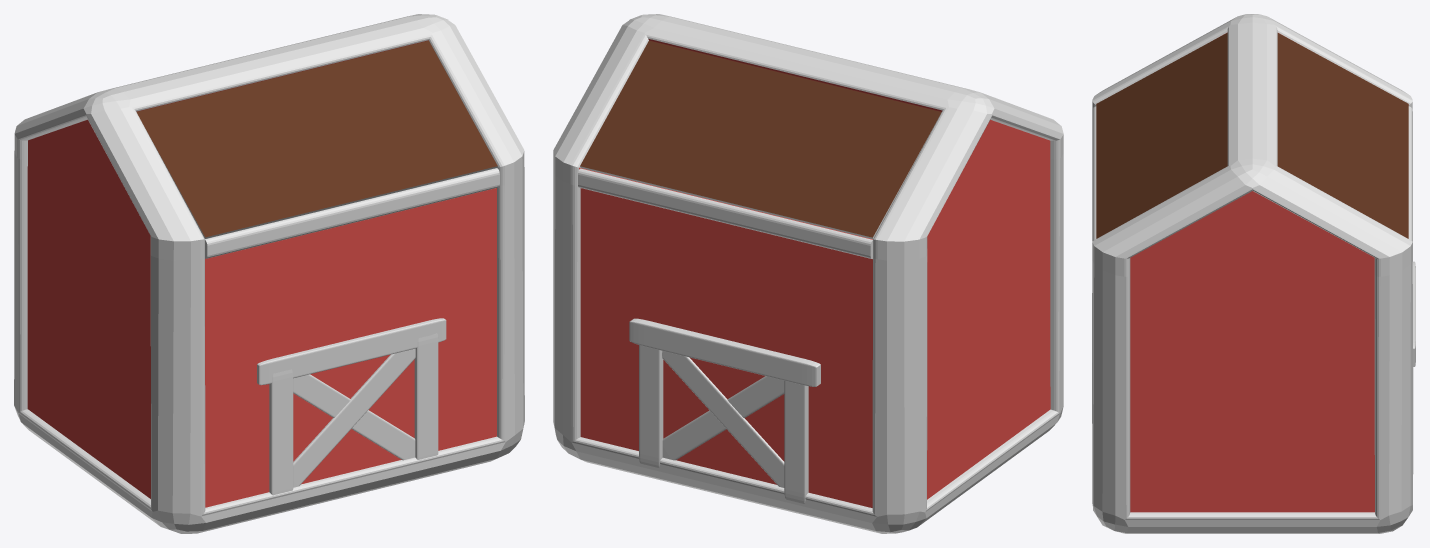
Rendered from Farm.fbx.
3 renders of one model, left to right at view 1: azimuth 30°, elevation 25°; view 2: azimuth 150°, elevation 25°; view 3: azimuth 270°, elevation 25°, orthographic. The views are drawn at different scales.
Visible parts, largest first — view 1: Cube.085, Cube.091, Cube.094, Cube.093, Cube.095, Cube.092; view 2: Cube.085, Cube.086, Cube.089, Cube.090, Cube.088, Cube.087; view 3: Cube.085.
Boxes of the visible parts, <box> form: Cube.085: <box>14,14,524,533</box>; Cube.091: <box>257,318,446,385</box>; Cube.094: <box>293,348,415,487</box>; Cube.093: <box>269,369,293,495</box>; Cube.095: <box>293,374,415,460</box>; Cube.092: <box>414,333,438,459</box>; Cube.085: <box>553,14,1063,533</box>; Cube.086: <box>629,318,820,386</box>; Cube.089: <box>662,351,784,487</box>; Cube.090: <box>662,376,784,460</box>; Cube.088: <box>784,380,808,503</box>; Cube.087: <box>639,345,663,467</box>; Cube.085: <box>1092,14,1412,533</box>.
Size of the model in its own units: 693 by 697 by 552.
